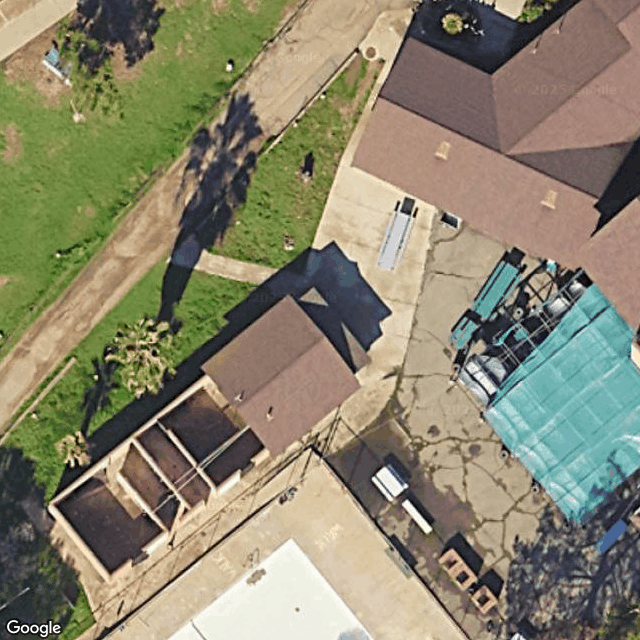palm: (103, 316, 191, 401), (52, 425, 103, 471)
